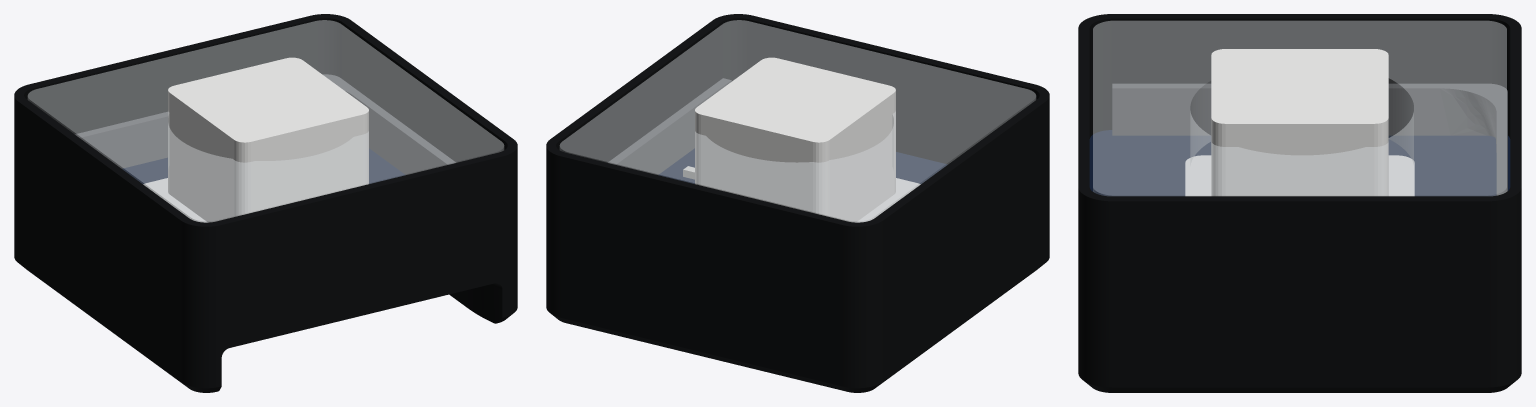
Rendered from scd40-air-quality.glb.
The picture shows the model from 3 angles, left to right: view 1: azimuth 30°, elevation 25°; view 2: azimuth 150°, elevation 25°; view 3: azimuth 270°, elevation 25°; orthographic projection. The views are drawn at different scales.
Parts seen in each view (by area): view 1: black, glass, derived_sensor_can, grey, pcb, derived_sensor_base; view 2: black, glass, derived_sensor_can, grey, pcb, derived_sensor_base; view 3: black, glass, derived_sensor_can, pcb, grey, derived_sensor_base.
Boxes of the visible parts, bbox=[...] form: black: bbox=[14, 14, 517, 392]; glass: bbox=[28, 20, 503, 222]; derived_sensor_can: bbox=[168, 57, 368, 222]; grey: bbox=[75, 74, 455, 174]; pcb: bbox=[122, 148, 405, 183]; derived_sensor_base: bbox=[143, 178, 207, 222]; black: bbox=[546, 14, 1049, 392]; glass: bbox=[560, 20, 1035, 222]; derived_sensor_can: bbox=[695, 57, 895, 222]; grey: bbox=[608, 78, 731, 174]; pcb: bbox=[658, 148, 947, 183]; derived_sensor_base: bbox=[856, 178, 920, 222]; black: bbox=[1078, 14, 1521, 392]; glass: bbox=[1093, 21, 1506, 195]; derived_sensor_can: bbox=[1211, 49, 1388, 196]; pcb: bbox=[1089, 130, 1510, 196]; grey: bbox=[1112, 83, 1507, 195]; derived_sensor_base: bbox=[1185, 155, 1414, 196].
Size of the model in its own units: 0.0195 by 0.0106 by 0.0195.
